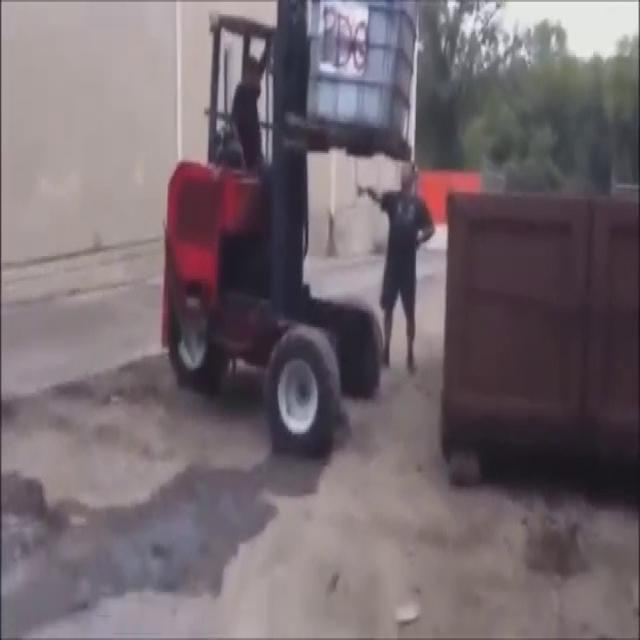forklift: (156, 0, 417, 464)
